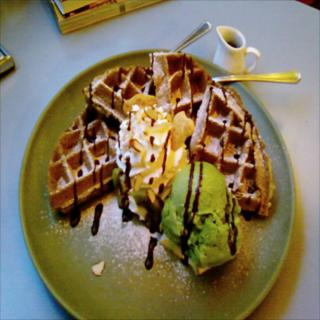Waffle: (190, 81, 276, 217), (46, 102, 126, 216), (149, 53, 213, 149), (82, 63, 154, 124)
